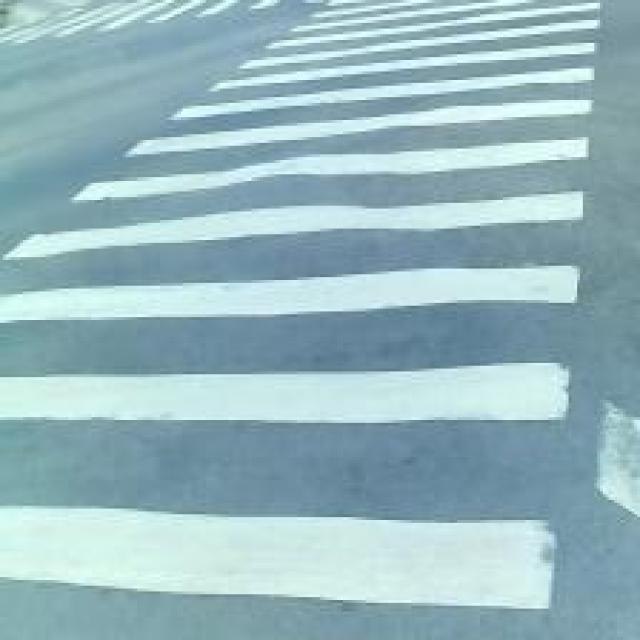walk-crossing: (63, 7, 569, 633)
